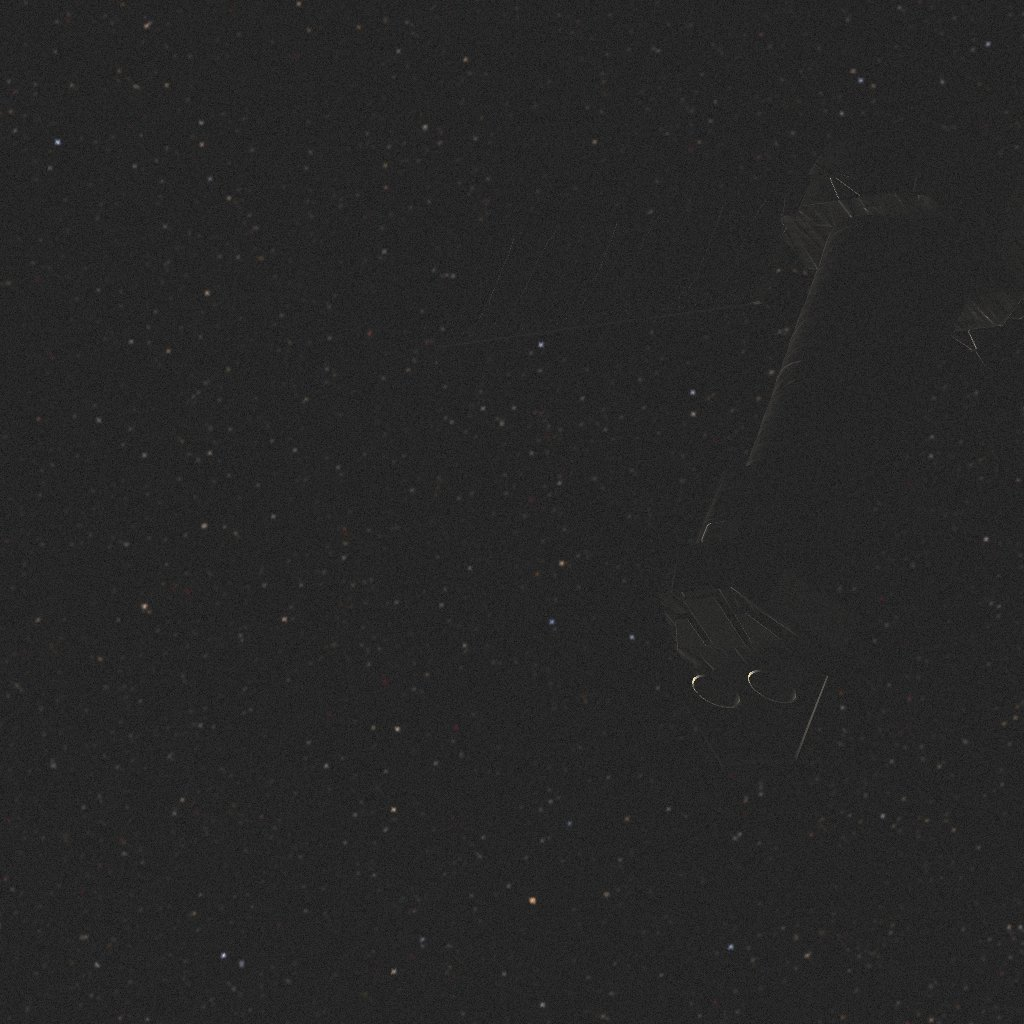xmm_newton: (439, 127, 1024, 766)
